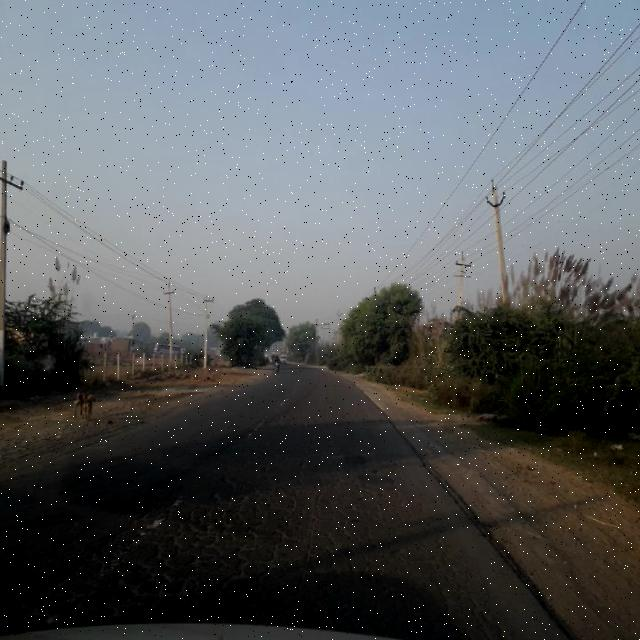D20: (1, 448, 482, 623)
